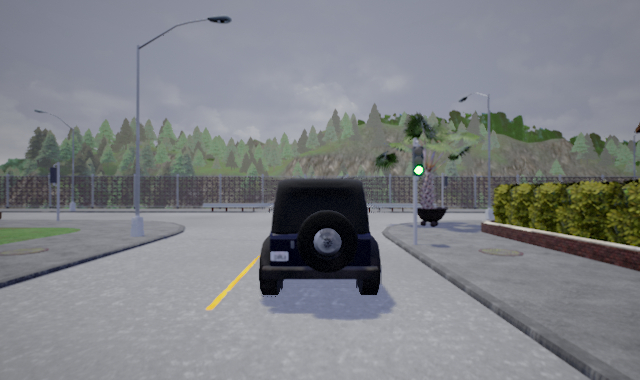traffic_light: (412, 146, 425, 178)
vehicle: (257, 176, 381, 297)
